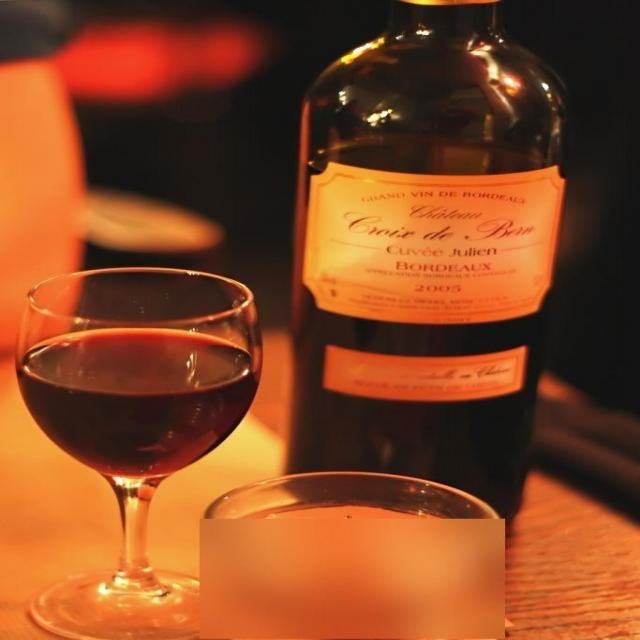bottle-glass: (287, 1, 575, 483)
glass-wine: (14, 267, 270, 639)
